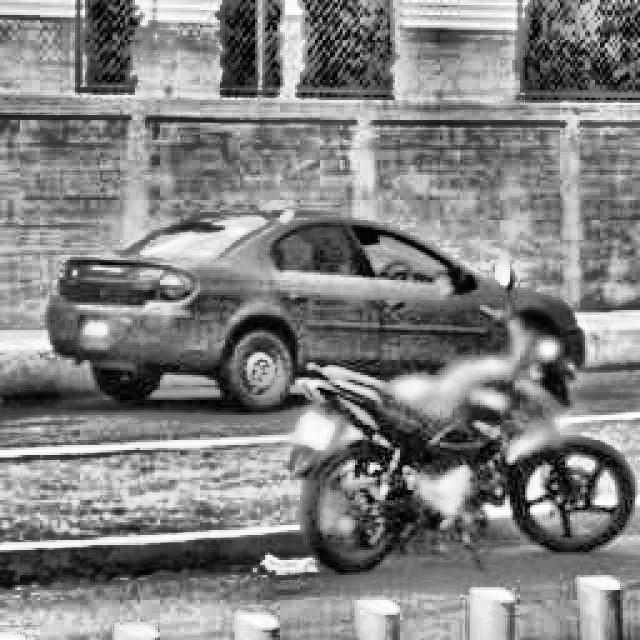motorcycle: (277, 273, 635, 576)
